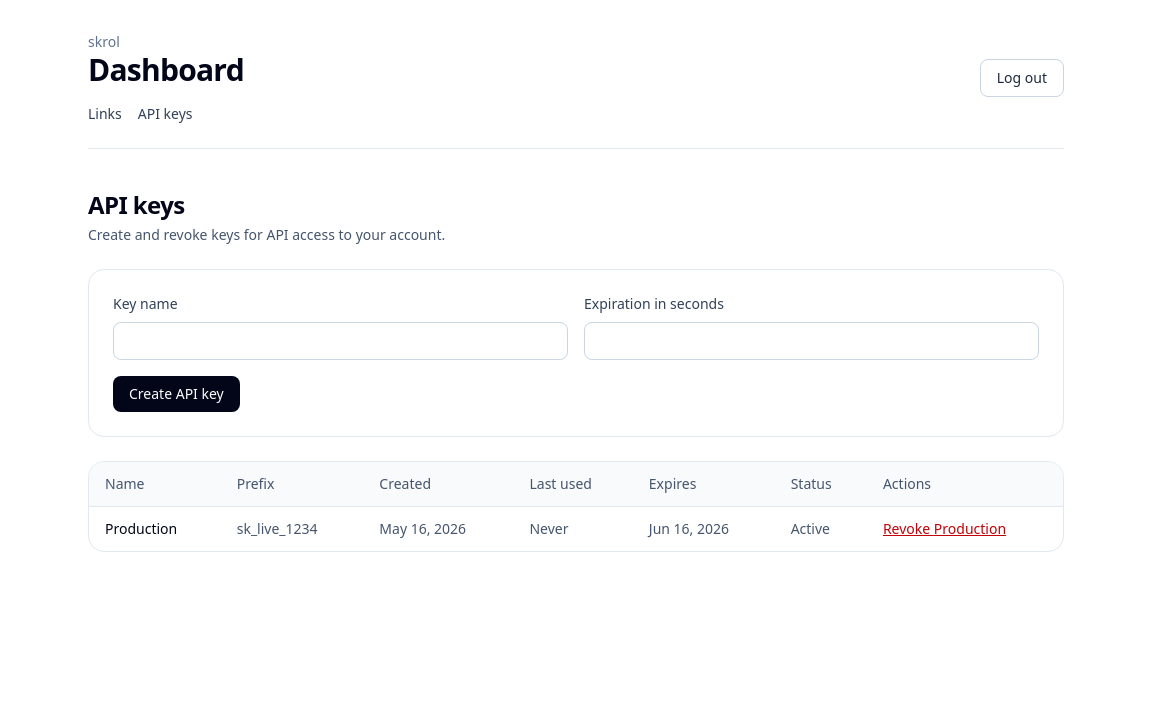
Scenario: dashboard api keys page › keeps loaded keys visible when create fails
Type "CLI" into the field labelled "Key name".
click(340, 341); type("CLI")  # box [113,322,568,360]
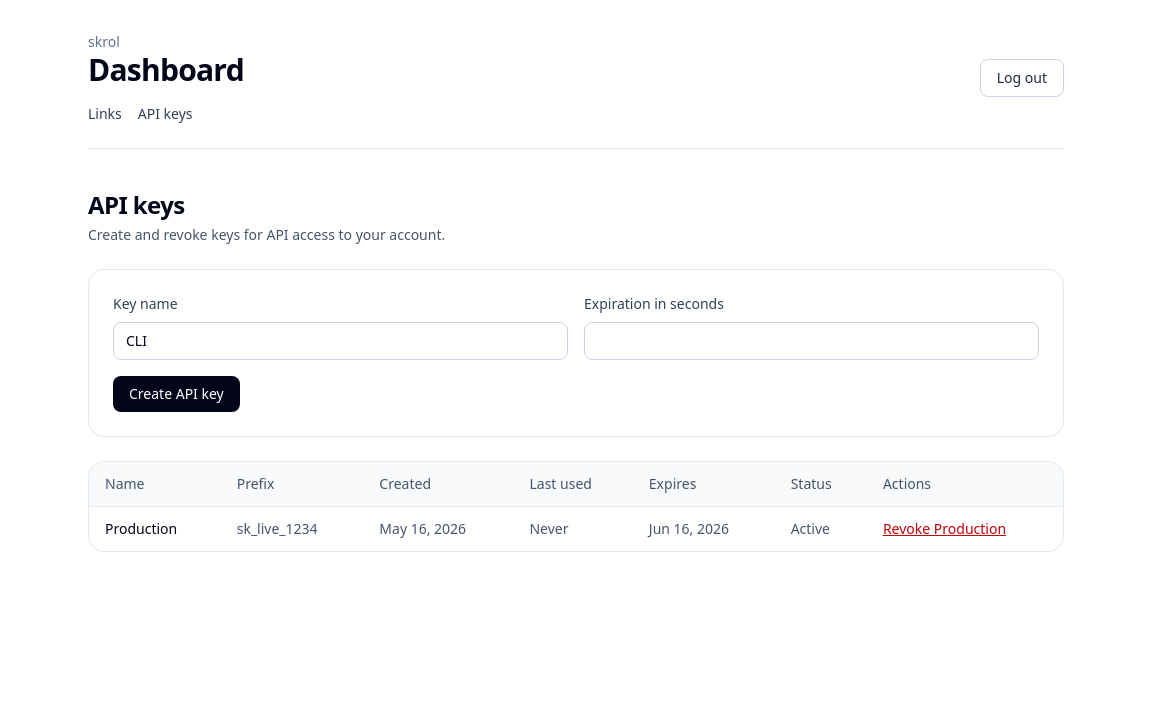
Click the button "Create API key".
click(176, 394)  # box [113,376,240,412]
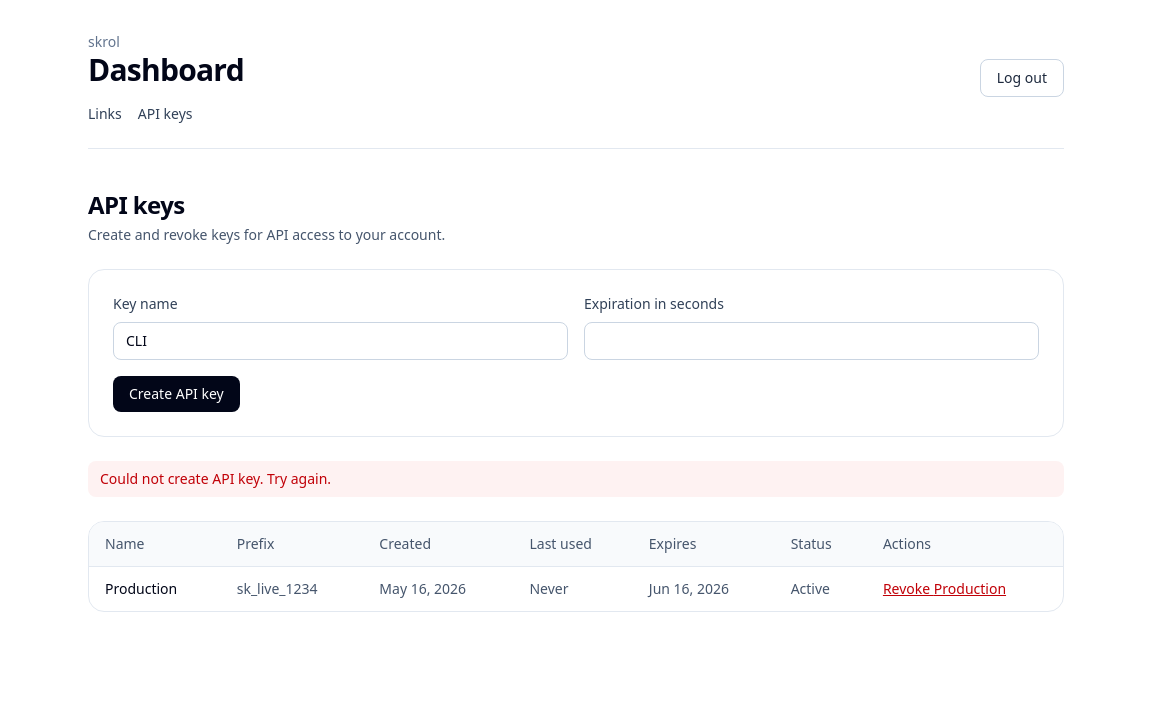
Expected: the text "Production" is shown, [89,566,221,611]
Now the message shows "Could not create", box [100,469,331,488]
